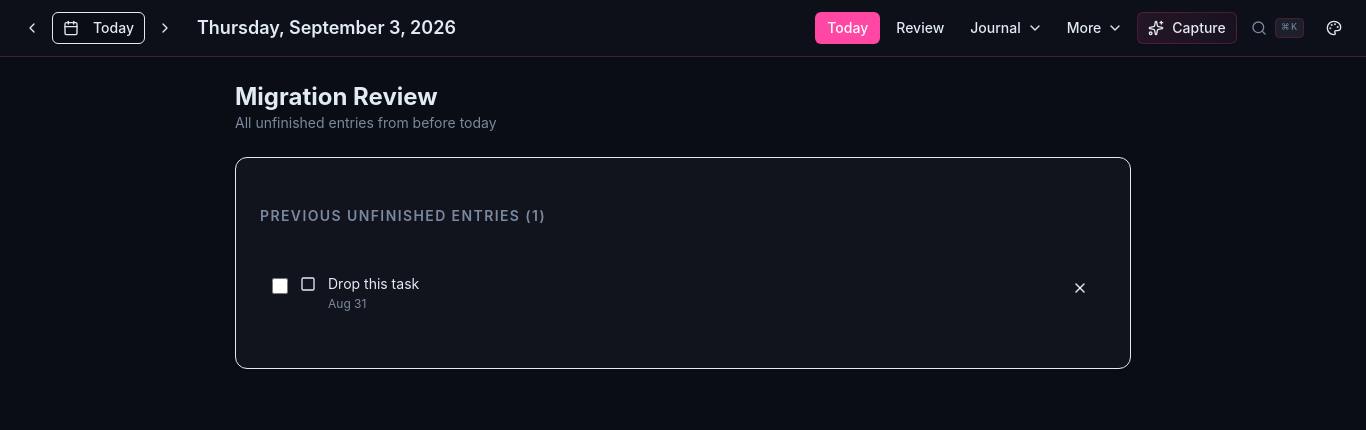
Test: mutation failure recovery › requires confirmation before killing a migration entry and announces success
Expected: the checkbox named "Select Drop this task for migration" is shown, top-left (272, 278), bottom-right (288, 294)
Click the button named "Kill Drop this task".
click(1080, 288)  # box top-left (1066, 274), bottom-right (1094, 302)
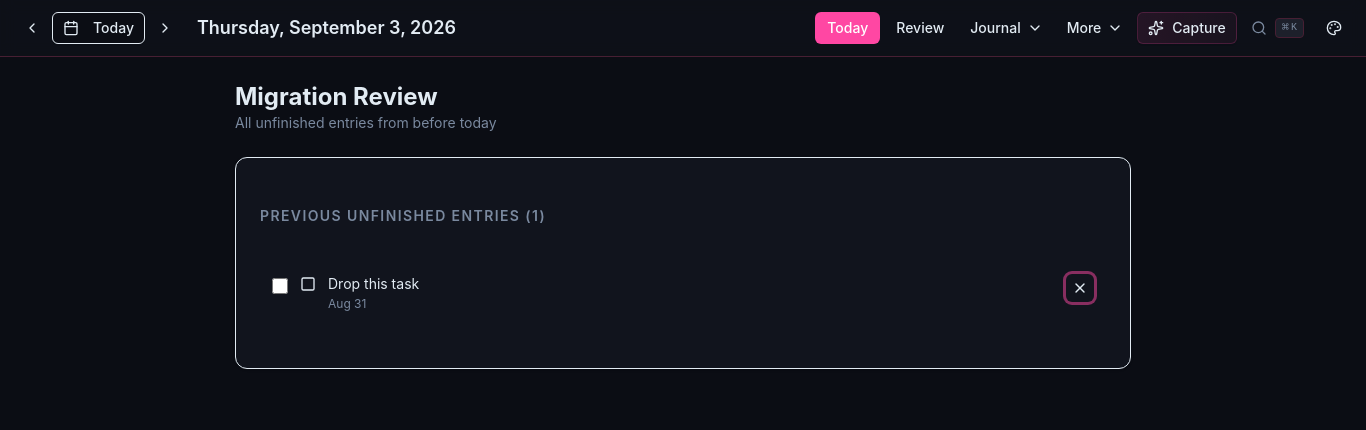
Click the button named "Kill Drop this task".
click(1080, 288)  # box top-left (1066, 274), bottom-right (1094, 302)
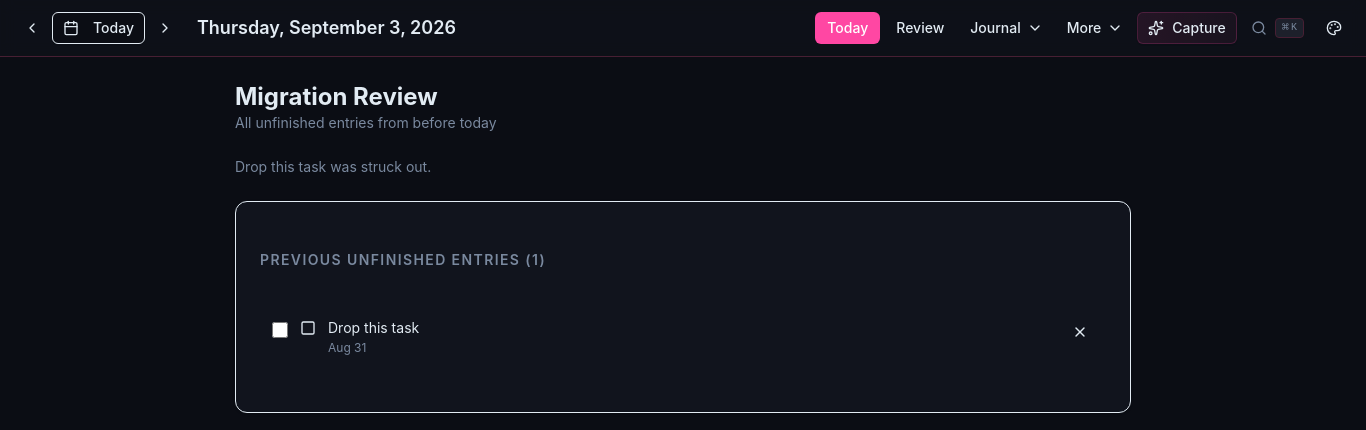
Result: the message shows "Drop this task was struck out" at top-left (235, 158), bottom-right (431, 175)
